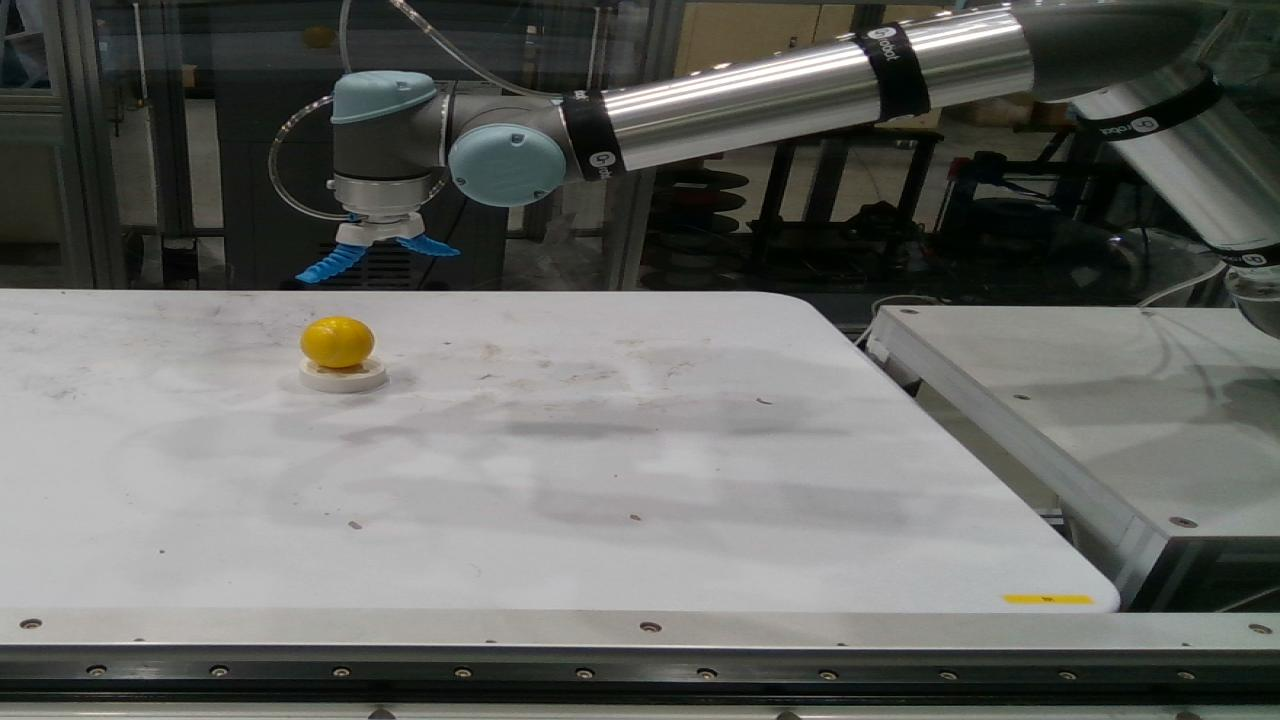UR5: (326, 1, 1279, 334)
gripper_left: (399, 233, 458, 257)
gripper_right: (295, 244, 365, 283)
target: (301, 316, 372, 368), (300, 357, 388, 392)
